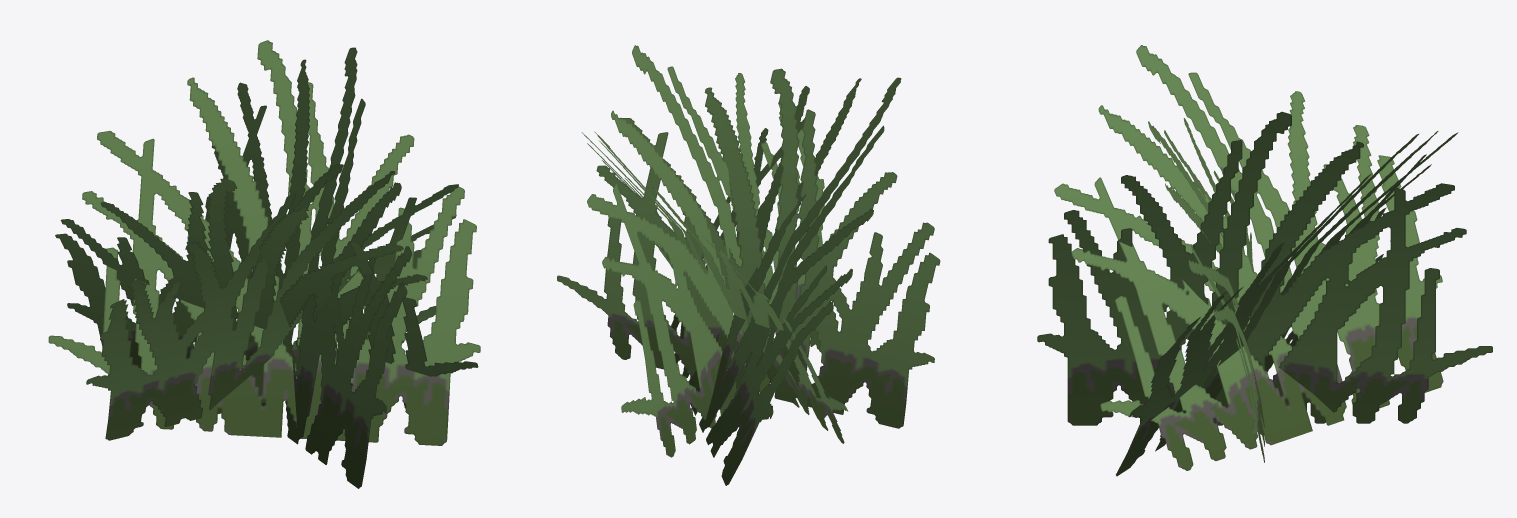
Rendered from plant_grass2.fbx.
The picture shows the model from 3 angles, left to right: view 1: azimuth 30°, elevation 25°; view 2: azimuth 150°, elevation 25°; view 3: azimuth 270°, elevation 25°; orthographic projection. The views are drawn at different scales.
Visible parts, largest first — view 1: plant_grass2; view 2: plant_grass2; view 3: plant_grass2.
Part boxes in pixels (left/top/right/bottom): plant_grass2: left=48, top=40, right=480, bottom=488; plant_grass2: left=557, top=45, right=940, bottom=485; plant_grass2: left=1037, top=45, right=1492, bottom=476.
Size of the model in its own units: 116 by 95.49 by 111.
Materials: 1 (1 with a texture image).
